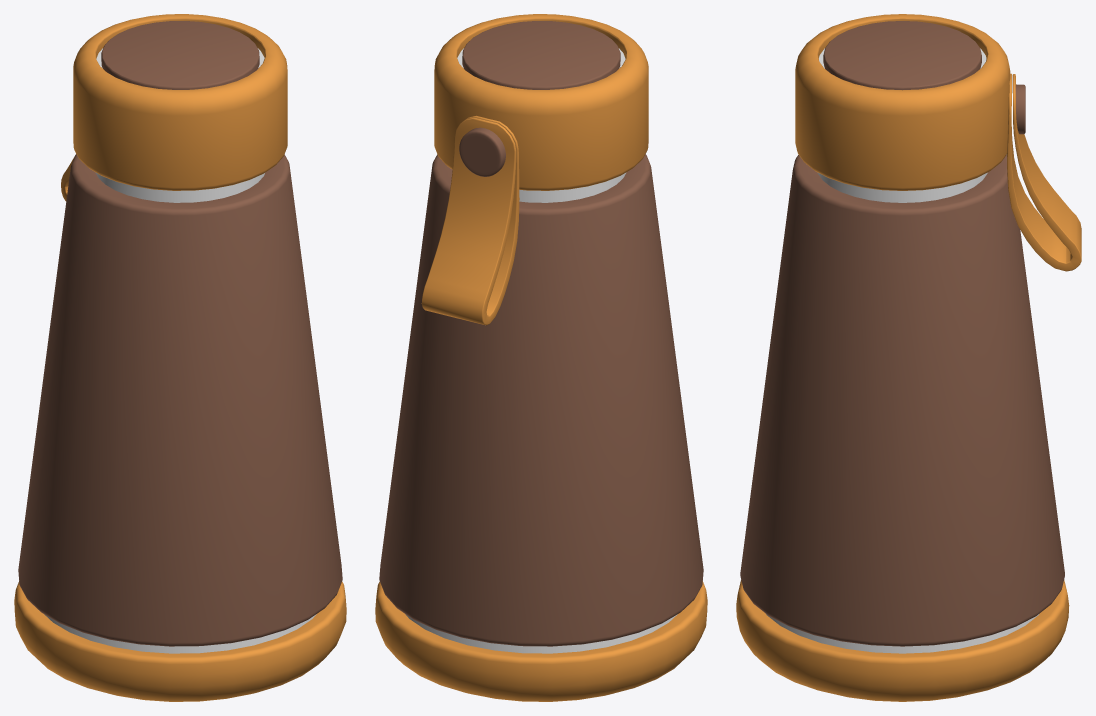
Rendered from Bouteille.fbx.
The picture shows the model from 3 angles, left to right: view 1: azimuth 30°, elevation 25°; view 2: azimuth 150°, elevation 25°; view 3: azimuth 270°, elevation 25°; orthographic projection.
Parts seen in each view (by area): view 1: Cylinder; view 2: Cylinder; view 3: Cylinder.
Part boxes in pixels (box(x1,y1,x2,y2)): Cylinder: box(14, 14, 346, 701); Cylinder: box(375, 14, 707, 701); Cylinder: box(736, 14, 1081, 701).
Size of the model in its own units: 69.65 by 136 by 72.29.
